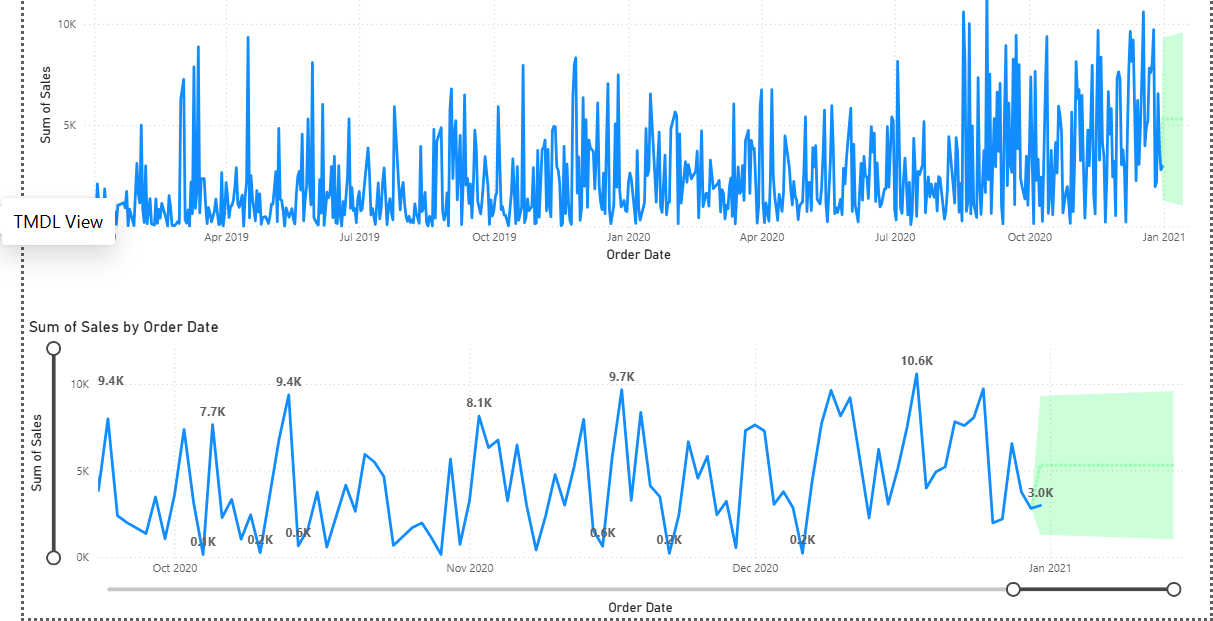

Layout of this report page (visuals, bound fields, positions):
{"tool":"powerbi","page":{"name":"Page 2","canvas":[1280,720],"ordinal":1},"visuals":[{"type":"lineChart","fields":{"Y":["Sum(SuperStore_Sales_Dataset.Sales)"],"Category":["SuperStore_Sales_Dataset.Order Date"]},"box":[10,0,1270,340],"z":0},{"type":"lineChart","fields":{"Y":["Sum(SuperStore_Sales_Dataset.Sales)"],"Category":["SuperStore_Sales_Dataset.Order Date"]},"box":[0,394.3,1270,325.7],"z":1000}]}

Visuals, with their boxes on the page's 1280x720 design canvas (x1, y1, x2, y2). These are canvas units, not pixel positions in the 1213x621 screenshot, which may show the page scaled, cropped or inside an application window:
lineChart - Sum(SuperStore_Sales_Dataset.Sales) x SuperStore_Sales_Dataset.Order Date: 10 0 1280 340
lineChart - Sum(SuperStore_Sales_Dataset.Sales) x SuperStore_Sales_Dataset.Order Date: 0 394 1270 720
